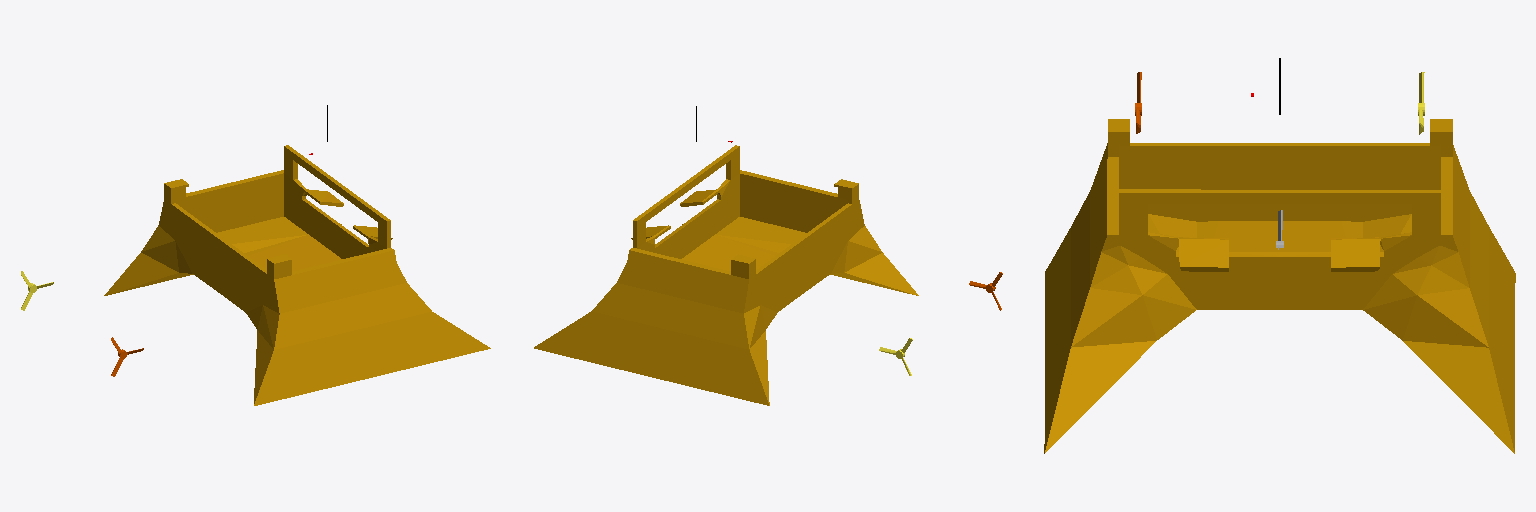
URDF robot description (WAM-V):
<?xml version="1.0" ?>
<!-- =================================================================================== -->
<!-- |    This document was autogenerated by xacro from [local-path]/vrx_ws/src/wamv_gazebo/urdf/wamv_gazebo.urdf.xacro | -->
<!-- |    EDITING THIS FILE BY HAND IS NOT RECOMMENDED                                 | -->
<!-- =================================================================================== -->
<!-- Basic WAM-V with gazebo plugins for dynamics -->
<robot name="WAM-V">

  <link name="wamv/body_link">
    <inertial>
      <origin rpy="0 -0 0" xyz="0 0 0"/>
      <inertia ixx="1" ixy="0" ixz="0" iyy="1" iyz="0" izz="1"/>
      <mass value="40"/>
    </inertial>
    <visual>
      <origin rpy="0 -0 1.57" xyz="0 0 0"/>
      <geometry>
        <mesh filename="package://wamv_description/models/WAM-V-Base/mesh/base.dae"/>
      </geometry>
    </visual>
    <collision>
      <origin rpy="0 -0 1.57" xyz="0 0 0"/>
      <geometry>
        <mesh filename="package://wamv_description/models/WAM-V-Base/mesh/base.dae"/>
      </geometry>
    </collision>
  </link>
  <link name="wamv/base_link">
  </link>
  <joint name="wamv/dummy_joint" type="fixed">
    <parent link="wamv/base_link"/>
    <child link="wamv/body_link"/>
  </joint>
  <!-- Basic model of the 16' WAM-V USV -->
  
  <link name="wamv/left_engine_link">
    <visual>
      <geometry>
        <mesh filename="package://wamv_description/models/engine/mesh/engine.dae"/>
      </geometry>
    </visual>
    <collision name="left_engine_vertical_axis_collision">
      <origin rpy="0 0 0" xyz="-0.16 0 -0.24"/>
      <geometry>
        <box size="0.2 0.15 0.83"/>
      </geometry>
    </collision>
    <collision name="left_engine_rear_end_collision">
      <origin rpy="0 0 0" xyz="-0.34 0 0.12"/>
      <geometry>
        <box size="0.12 0.15 0.12"/>
      </geometry>
    </collision>
    <inertial>
      <mass value="15"/>
      <inertia ixx="0.889245" ixy="0.0" ixz="0.0" iyy="0.911125" iyz="0.0" izz="0.078125"/>
    </inertial>
  </link>
  <link name="wamv/left_propeller_link">
    <visual>
      <geometry>
        <mesh filename="package://wamv_description/models/propeller/mesh/propeller.dae"/>
      </geometry>
    </visual>
    <collision name="left_propeller_collision">
      <origin rpy="0 1.57 0" xyz="-0.08 0 0"/>
      <geometry>
        <cylinder length="0.18" radius="0.24"/>
      </geometry>
    </collision>
    <inertial>
      <mass value="0.5"/>
      <inertia ixx="0.008545" ixy="0.0" ixz="0.0" iyy="0.008545" iyz="0.0" izz="0.0144"/>
    </inertial>
  </link>
  <joint name="wamv/left_chasis_engine_joint" type="revolute">
    <axis xyz="0 0 1"/>
    <limit effort="10" lower="-3.141592653589793" upper="3.141592653589793" velocity="10"/>
    <origin rpy="0.0 0.0 0.0" xyz="-2.373776 1.027135 0.318237"/>
    <parent link="wamv/base_link"/>
    <child link="wamv/left_engine_link"/>
  </joint>
  <joint name="wamv/left_engine_propeller_joint" type="continuous">
    <axis rpy="0 0 0" xyz="1 0 0"/>
    <parent link="wamv/left_engine_link"/>
    <child link="wamv/left_propeller_link"/>
    <origin rpy="0 0 0" xyz="-0.278156 0 -0.509371"/>
    <limit effort="100" velocity="100"/>
    <dynamics damping="0.05" friction="0.05"/>
  </joint>
  <link name="wamv/right_engine_link">
    <visual>
      <geometry>
        <mesh filename="package://wamv_description/models/engine/mesh/engine.dae"/>
      </geometry>
    </visual>
    <collision name="right_engine_vertical_axis_collision">
      <origin rpy="0 0 0" xyz="-0.16 0 -0.24"/>
      <geometry>
        <box size="0.2 0.15 0.83"/>
      </geometry>
    </collision>
    <collision name="right_engine_rear_end_collision">
      <origin rpy="0 0 0" xyz="-0.34 0 0.12"/>
      <geometry>
        <box size="0.12 0.15 0.12"/>
      </geometry>
    </collision>
    <inertial>
      <mass value="15"/>
      <inertia ixx="0.889245" ixy="0.0" ixz="0.0" iyy="0.911125" iyz="0.0" izz="0.078125"/>
    </inertial>
  </link>
  <link name="wamv/right_propeller_link">
    <visual>
      <geometry>
        <mesh filename="package://wamv_description/models/propeller/mesh/propeller.dae"/>
      </geometry>
    </visual>
    <collision name="right_propeller_collision">
      <origin rpy="0 1.57 0" xyz="-0.08 0 0"/>
      <geometry>
        <cylinder length="0.18" radius="0.24"/>
      </geometry>
    </collision>
    <inertial>
      <mass value="0.5"/>
      <inertia ixx="0.008545" ixy="0.0" ixz="0.0" iyy="0.008545" iyz="0.0" izz="0.0144"/>
    </inertial>
  </link>
  <joint name="wamv/right_chasis_engine_joint" type="revolute">
    <axis xyz="0 0 1"/>
    <limit effort="10" lower="-3.141592653589793" upper="3.141592653589793" velocity="10"/>
    <origin rpy="0.0 0.0 0.0" xyz="-2.373776 -1.027135 0.318237"/>
    <parent link="wamv/base_link"/>
    <child link="wamv/right_engine_link"/>
  </joint>
  <joint name="wamv/right_engine_propeller_joint" type="continuous">
    <axis rpy="0 0 0" xyz="1 0 0"/>
    <parent link="wamv/right_engine_link"/>
    <child link="wamv/right_propeller_link"/>
    <origin rpy="0 0 0" xyz="-0.278156 0 -0.509371"/>
    <limit effort="100" velocity="100"/>
    <dynamics damping="0.05" friction="0.05"/>
  </joint>
  <link name="wamv/middle_engine_link">
    <visual>
      <geometry>
        <mesh filename="package://wamv_description/models/engine/mesh/engine.dae"/>
      </geometry>
    </visual>
    <collision name="middle_engine_vertical_axis_collision">
      <origin rpy="0 0 0" xyz="-0.16 0 -0.24"/>
      <geometry>
        <box size="0.2 0.15 0.83"/>
      </geometry>
    </collision>
    <collision name="middle_engine_rear_end_collision">
      <origin rpy="0 0 0" xyz="-0.34 0 0.12"/>
      <geometry>
        <box size="0.12 0.15 0.12"/>
      </geometry>
    </collision>
    <inertial>
      <mass value="15"/>
      <inertia ixx="0.889245" ixy="0.0" ixz="0.0" iyy="0.911125" iyz="0.0" izz="0.078125"/>
    </inertial>
  </link>
  <link name="wamv/middle_propeller_link">
    <visual>
      <geometry>
        <mesh filename="package://wamv_description/models/propeller/mesh/propeller.dae"/>
      </geometry>
    </visual>
    <collision name="middle_propeller_collision">
      <origin rpy="0 1.57 0" xyz="-0.08 0 0"/>
      <geometry>
        <cylinder length="0.18" radius="0.24"/>
      </geometry>
    </collision>
    <inertial>
      <mass value="0.5"/>
      <inertia ixx="0.008545" ixy="0.0" ixz="0.0" iyy="0.008545" iyz="0.0" izz="0.0144"/>
    </inertial>
  </link>
  <joint name="wamv/middle_chasis_engine_joint" type="revolute">
    <axis xyz="0 0 1"/>
    <limit effort="10" lower="-3.141592653589793" upper="3.141592653589793" velocity="10"/>
    <origin rpy="0.0 0.0 0.0" xyz="0 0 0.318237"/>
    <parent link="wamv/base_link"/>
    <child link="wamv/middle_engine_link"/>
  </joint>
  <joint name="wamv/middle_engine_propeller_joint" type="continuous">
    <axis rpy="0 0 0" xyz="1 0 0"/>
    <parent link="wamv/middle_engine_link"/>
    <child link="wamv/middle_propeller_link"/>
    <origin rpy="0 0 0" xyz="-0.278156 0 -0.509371"/>
    <limit effort="100" velocity="100"/>
    <dynamics damping="0.05" friction="0.05"/>
  </joint>
  <gazebo>
    <plugin filename="libusv_gazebo_thrust_plugin.so" name="wamv_gazebo_thrust">
      <cmdTimeout>1.0</cmdTimeout>
      <robotNamespace>wamv</robotNamespace>
      <thruster>
        <!-- Required Parameters -->
        <linkName>wamv/left_propeller_link</linkName>
        <propJointName>wamv/left_engine_propeller_joint</propJointName>
        <engineJointName>wamv/left_chasis_engine_joint</engineJointName>
        <cmdTopic>thrusters/left_thrust_cmd</cmdTopic>
        <angleTopic>thrusters/left_thrust_angle</angleTopic>
        <enableAngle>True</enableAngle>
        <!-- Optional Parameters -->
        <mappingType>1</mappingType>
        <maxCmd>1.0</maxCmd>
        <maxForceFwd>250.0</maxForceFwd>
        <maxForceRev>-100.0</maxForceRev>
        <maxAngle>1.5707963267948966</maxAngle>
      </thruster>
      <thruster>
        <!-- Required Parameters -->
        <linkName>wamv/right_propeller_link</linkName>
        <propJointName>wamv/right_engine_propeller_joint</propJointName>
        <engineJointName>wamv/right_chasis_engine_joint</engineJointName>
        <cmdTopic>thrusters/right_thrust_cmd</cmdTopic>
        <angleTopic>thrusters/right_thrust_angle</angleTopic>
        <enableAngle>True</enableAngle>
        <!-- Optional Parameters -->
        <mappingType>1</mappingType>
        <maxCmd>1.0</maxCmd>
        <maxForceFwd>250.0</maxForceFwd>
        <maxForceRev>-100.0</maxForceRev>
        <maxAngle>1.5707963267948966</maxAngle>
      </thruster>
      <thruster>
        <!-- Required Parameters -->
        <linkName>wamv/middle_propeller_link</linkName>
        <propJointName>wamv/middle_engine_propeller_joint</propJointName>
        <engineJointName>wamv/middle_chasis_engine_joint</engineJointName>
        <cmdTopic>thrusters/middle_thrust_cmd</cmdTopic>
        <angleTopic>thrusters/middle_thrust_angle</angleTopic>
        <enableAngle>True</enableAngle>
        <!-- Optional Parameters -->
        <mappingType>1</mappingType>
        <maxCmd>1.0</maxCmd>
        <maxForceFwd>250.0</maxForceFwd>
        <maxForceRev>-100.0</maxForceRev>
        <maxAngle>1.5707963267948966</maxAngle>
      </thruster>
    </plugin>
  </gazebo>
  <!--Gazebo Plugin for simulating WAM-V dynamics-->
  <gazebo>
    <plugin filename="libusv_gazebo_dynamics_plugin.so" name="usv_dynamics_wamv_dynamics_plugin">
      <bodyName>wamv/base_link</bodyName>
      <!-- Must be same as the ocean model!-->
      <waterLevel>0</waterLevel>
      <waterDensity>997.8</waterDensity>
      <!-- Added mass -->
      <xDotU>0.0</xDotU>
      <yDotV>0.0</yDotV>
      <nDotR>0.0</nDotR>
      <!-- Linear and quadratic drag -->
      <xU>51.3</xU>
      <xUU>72.4</xUU>
      <yV>40.0</yV>
      <yVV>0.0</yVV>
      <zW>500.0</zW>
      <kP>50.0</kP>
      <mQ>50.0</mQ>
      <nR>400.0</nR>
      <nRR>0.0</nRR>
      <!-- General dimensions -->
      <!--<boatArea>2.2</boatArea>-->
      <hullRadius>0.213</hullRadius>
      <boatWidth>2.4</boatWidth>
      <boatLength>4.9</boatLength>
      <!-- Length discretization, AKA, "N" -->
      <length_n>2</length_n>
      <!-- Wave model -->
      <wave_model>ocean_waves</wave_model>
    </plugin>
  </gazebo>
  <link name="wamv/gps_wamv_link">
    <visual name="gps_wamv_visual">
      <geometry>
        <mesh filename="package://wamv_gazebo/models/gps/mesh/gps.dae"/>
      </geometry>
    </visual>
    <collision name="gps_wamv_collision_base">
      <origin rpy="0 0 0" xyz="0 0 0.025"/>
      <geometry>
        <cylinder length="0.05" radius="0.015"/>
      </geometry>
    </collision>
    <collision name="gps_wamv_collision_antenna">
      <origin rpy="0 0 0" xyz="0 0 0.11"/>
      <geometry>
        <cylinder length="0.1" radius="0.15"/>
      </geometry>
    </collision>
    <inertial>
      <mass value="1"/>
      <inertia ixx="0.006458" ixy="0.0" ixz="0.0" iyy="0.006458" iyz="0.0" izz="0.01125"/>
    </inertial>
  </link>
  <joint name="wamv/gps_wamv_joint" type="revolute">
    <axis xyz="0 0 1"/>
    <limit effort="1000.0" lower="0.0" upper="0" velocity="0"/>
    <origin rpy="0 0 0" xyz="-0.85 0 1.3"/>
    <parent link="wamv/base_link"/>
    <child link="wamv/gps_wamv_link"/>
  </joint>
  <gazebo>
    <plugin filename="libhector_gazebo_ros_gps.so" name="gps_plugin_gps_wamv">
      <updateRate>15</updateRate>
      <alwaysOn>true</alwaysOn>
      <bodyName>wamv/gps_wamv_link</bodyName>
      <!-- Manually prepend namespace to tf frame. -->
      <frameId>wamv/gps_wamv_link</frameId>
      <topicName>wamv/sensors/gps/gps/fix</topicName>
      <!-- Note that the hector_gazebo_ros_gps plugin uses NWU coordinates
             for reporting velocities.  This may cause problems if localization
             requires velocity in ENU.
             See Issue #64 in VRX project for details
             https://bitbucket.org/osrf/vrx/issues/64 -->
      <velocityTopicName>wamv/sensors/gps/gps/fix_velocity</velocityTopicName>
      <!-- Location of origin of Gazebo Sand Island map -->
      <referenceLatitude>-33.724223</referenceLatitude>
      <referenceLongitude>150.679736</referenceLongitude>
      <referenceAltitude>0.0</referenceAltitude>
      <referenceHeading>270</referenceHeading>
      <offset>0.0 0.0 0.0</offset>
      <drift>0.0 0.0 0.0</drift>
      <gaussianNoise>0 0 0</gaussianNoise>
      <velocityOffset>0.0 0.0 0.0</velocityOffset>
      <velocityDrift>0.0 0.0 0.0</velocityDrift>
      <velocityGaussianNoise>0.0 0.0 0.0</velocityGaussianNoise>
    </plugin>
  </gazebo>
  <link name="wamv/imu_wamv_link">
    <visual name="imu_wamv_visual">
      &gt;
        
      <geometry>
        <box size="0.05 0.025 0.005"/>
      </geometry>
      <material name="imu_wamv_visual_material">
        <color rgba="1.0 0.0 00 1.0"/>
      </material>
    </visual>
    <inertial>
      <mass value="0.1"/>
      <inertia ixx="0.000083" ixy="0.0" ixz="0.0" iyy="0.000083" iyz="0.0" izz="0.0125"/>
    </inertial>
  </link>
  <joint name="wamv/imu_wamv_joint" type="revolute">
    <axis xyz="0 0 1"/>
    <limit effort="1000.0" lower="0.0" upper="0" velocity="0"/>
    <origin rpy="0 0 0" xyz="0.3 -0.2 1.3"/>
    <parent link="wamv/base_link"/>
    <child link="wamv/imu_wamv_link"/>
  </joint>
  <gazebo>
    <plugin filename="libhector_gazebo_ros_imu.so" name="imu_plugin_imu_wamv">
      <updateRate>15</updateRate>
      <bodyName>wamv/imu_wamv_link</bodyName>
      <topicName>wamv/sensors/imu/imu/data</topicName>
      <serviceName>wamv/sensors/imu_service</serviceName>
      <!-- Manually prepend namespace to tf frame. -->
      <frameId>wamv/imu_wamv_link</frameId>
      <alwaysOn>true</alwaysOn>
      <accelOffset>0.0 0.0 0.0</accelOffset>
      <accelDrift>0.0 0.0 0.0</accelDrift>
      <accelDriftFrequency>0.00027 0.00027 0.000027</accelDriftFrequency>
      <accelGaussianNoise>0.0 0.0 0.0</accelGaussianNoise>
      <rateOffset>0.0 0.0 0.0</rateOffset>
      <rateDrift>0.0 0.0 0.0</rateDrift>
      <rateDriftFrequency>0.00027 0.00027 0.000027</rateDriftFrequency>
      <rateGaussianNoise>0.0 0.0 0.0</rateGaussianNoise>
      <yawOffset>0.0</yawOffset>
      <yawDrift>0.0</yawDrift>
      <yawDriftFrequency>0.00027</yawDriftFrequency>
      <yawGaussianNoise>0.0</yawGaussianNoise>
    </plugin>
  </gazebo>
  <!-- 3d lidar sensor -->
  <link name="wamv/lidar_wamv_link">
    <visual name="lidar_wamv_visual">
      <origin rpy="0 0 0" xyz="0 0 -0.035"/>
      <geometry>
        <mesh filename="package://vrx_gazebo/models/3d_lidar/mesh/3d_lidar.dae"/>
      </geometry>
    </visual>
    <collision name="lidar_wamv_collision">
      <geometry>
        <cylinder length="0.075" radius="0.055"/>
      </geometry>
    </collision>
    <inertial>
      <mass value="1"/>
      <inertia ixx="0.00109375" ixy="0" ixz="0" iyy="0.00109375" iyz="0" izz="0.00125"/>
    </inertial>
  </link>
  <!-- Sensor post -->
  <link name="wamv/lidar_wamv_post_link">
    <visual>
      <geometry>
        <cylinder length="0.45350000000000007" radius="0.0076"/>
      </geometry>
      <material name="lidar_wamv_post_material">
        <color rgba="0.0 0.0 0.0 1.0"/>
      </material>
    </visual>
    <collision name="lidar_wamv_post_collision">
      <geometry>
        <cylinder length="0.45350000000000007" radius="0.0076"/>
      </geometry>
    </collision>
    <inertial>
      <mass value="0.40815000000000007"/>
      <inertia ixx="0.007000980964125004" ixy="0" ixz="0" iyy="0.007000980964125004" iyz="0" izz="1.1787372000000002e-05"/>
    </inertial>
  </link>
  <!-- Sensor post arm -->
  <link name="wamv/lidar_wamv_post_arm_link">
    <visual name="lidar_wamv_post_arm_visual">
      <origin rpy="-1.0471975511965976 0 -1.5707963267948966" xyz="-0.038 0 -0.003"/>
      <geometry>
        <mesh filename="package://vrx_gazebo/models/sensor_post/mesh/sensor_post_arm.dae"/>
      </geometry>
    </visual>
    <collision name="lidar_wamv_post_arm_collision">
      <origin rpy="-1.2042771838760873 0 -1.5707963267948966" xyz="0 0 0"/>
      <geometry>
        <cylinder length="0.065" radius="0.008"/>
      </geometry>
    </collision>
    <inertial>
      <origin rpy="-1.2042771838760873 0 -1.5707963267948966" xyz="0 0 0"/>
      <mass value="0.1"/>
      <inertia ixx="0.00003680833" ixy="0" ixz="0" iyy="0.00003680833" iyz="0" izz="0.00000320000"/>
    </inertial>
  </link>
  <joint name="wamv/base_to_lidar_wamv_post_joint" type="fixed">
    <origin rpy="0 0 0" xyz="0.6299999999999999 0.0 1.52325"/>
    <parent link="wamv/base_link"/>
    <child link="wamv/lidar_wamv_post_link"/>
  </joint>
  <!-- Sensor post to sensor post arm joint -->
  <joint name="wamv/lidar_wamv_post_to_lidar_wamv_post_arm_joint" type="fixed">
    <origin rpy="0 0 0" xyz="0.03 0 0.22675000000000006"/>
    <parent link="wamv/lidar_wamv_post_link"/>
    <child link="wamv/lidar_wamv_post_arm_link"/>
  </joint>
  <!-- Sensor post arm to lidar joint -->
  <joint name="wamv/lidar_wamv_post_arm_to_lidar_wamv_joint" type="fixed">
    <origin rpy="0 0.13962634015954636 0" xyz="0.04 0 0.05"/>
    <parent link="wamv/lidar_wamv_post_arm_link"/>
    <child link="wamv/lidar_wamv_link"/>
  </joint>
  <gazebo reference="wamv/lidar_wamv_link">
    <sensor name="lidar_wamv_sensor" type="gpu_ray">
      <update_rate>10</update_rate>
      <ray>
        <scan>
          <horizontal>
            <samples>18750.0</samples>
            <resolution>0.1</resolution>
            <min_angle>-3.141592653589793</min_angle>
            <max_angle>3.141592653589793</max_angle>
          </horizontal>
          <vertical>
            <samples>16</samples>
            <resolution>1</resolution>
            <min_angle>-0.2617993877991494</min_angle>
            <max_angle>0.2617993877991494</max_angle>
          </vertical>
        </scan>
        <range>
          <min>0.1</min>
          <max>130</max>
        </range>
        <noise>
          <type>gaussian</type>
          <mean>0.0</mean>
          <stddev>0.01</stddev>
        </noise>
      </ray>
      <plugin filename="libgazebo_ros_velodyne_gpu_laser.so" name="lidar_wamv_plugin">
        <topicName>wamv/sensors/lidars/lidar_wamv/points</topicName>
        <frameName>wamv/lidar_wamv_link</frameName>
        <min_intensity>0</min_intensity>
      </plugin>
    </sensor>
  </gazebo>
  <!-- Set color of post -->
  <gazebo reference="wamv/lidar_wamv_post_link">
    <material>Gazebo/Black</material>
  </gazebo>
  <!--specs for 16 beam lidar are implemented by default.
          See wamv_3d_lidar for those-->
  <link name="wamv/cpu_cases_link">
    <visual name="cpu_cases_visual">
      <origin rpy="0 0 0" xyz="0.073 0 -1.53"/>
      <geometry>
        <mesh filename="package://vrx_gazebo/models/cpu_cases/mesh/cpu_cases.dae"/>
      </geometry>
    </visual>
    <collision name="cpu_case_1_collision">
      <origin rpy="0 0 0" xyz="0.185 0 0"/>
      <geometry>
        <box size="0.595 0.83 0.47"/>
      </geometry>
    </collision>
    <collision name="cpu_case_2_collision">
      <origin rpy="0 0 0" xyz="-0.3 0 -0.092"/>
      <geometry>
        <box size="0.375 0.64 0.28"/>
      </geometry>
    </collision>
    <inertial>
      <mass value="20"/>
      <inertia ixx="1.51633333333333" ixy="0" ixz="0" iyy="1.93633333333333" iyz="0" izz="2.71633333333333"/>
    </inertial>
  </link>
  <joint name="wamv/chasis_cpu_cases_joint" type="fixed">
    <origin rpy="0 0 0" xyz="-0.15 0 1.53"/>
    <parent link="wamv/base_link"/>
    <child link="wamv/cpu_cases_link"/>
  </joint>
</robot>

--- Facts derived from the render (not from the file) ---
The picture shows the robot from 3 angles, left to right: view 1: azimuth 30°, elevation 25°; view 2: azimuth 150°, elevation 25°; view 3: azimuth 270°, elevation 25°; orthographic projection.
Robot: WAM-V — 14 links, 13 joints (5 revolute, 3 continuous, 5 fixed); root link wamv/base_link; default pose: every joint at zero.
Visible links, largest first — view 1: wamv/body_link; view 2: wamv/body_link; view 3: wamv/body_link.
Boxes of the visible links, left/top/right/bottom form: wamv/body_link: left=104, top=145, right=490, bottom=405; wamv/body_link: left=534, top=145, right=918, bottom=405; wamv/body_link: left=1044, top=119, right=1515, bottom=453.
Size in the robot's own frame: 4.62 by 3.42 by 2.63 metres.
4 mesh visuals loaded from 7 distinct referenced files (2 Collada DAE); not drawn: 7 (reference not matched to a file when rendering).